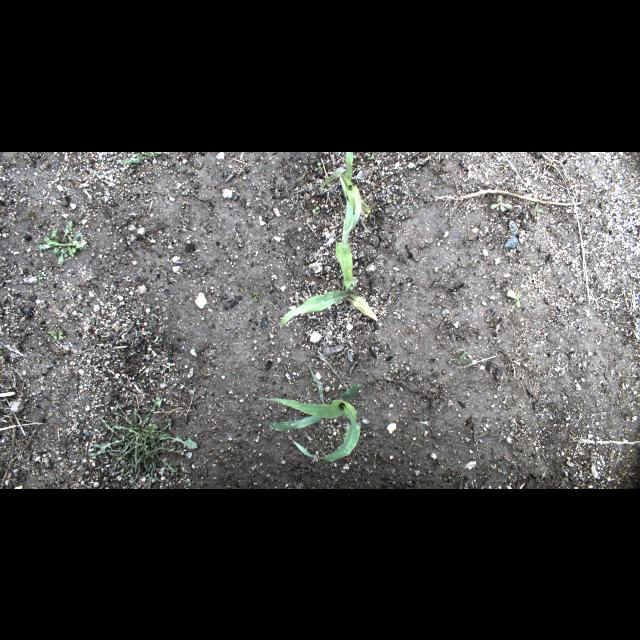crop: (281, 172, 379, 326), (268, 368, 364, 462), (319, 152, 371, 228)
weed: (89, 396, 198, 488), (38, 218, 88, 266), (240, 281, 280, 311), (120, 152, 162, 164), (453, 346, 475, 364), (367, 441, 385, 461), (490, 194, 512, 210), (404, 433, 422, 452), (225, 370, 241, 388), (48, 328, 64, 342), (529, 202, 543, 214), (36, 270, 49, 280), (514, 292, 522, 308), (100, 466, 110, 474), (316, 160, 324, 170), (443, 474, 452, 482), (312, 205, 321, 213), (0, 463, 8, 471), (130, 194, 138, 202), (187, 479, 195, 486), (366, 152, 374, 158), (382, 378, 386, 388), (511, 426, 517, 432), (393, 367, 399, 373), (130, 203, 136, 209), (42, 225, 49, 229), (185, 358, 191, 362), (36, 357, 40, 363), (358, 164, 364, 168), (213, 242, 217, 246), (316, 210, 320, 214), (482, 470, 486, 474), (235, 234, 237, 238), (380, 171, 382, 175)
